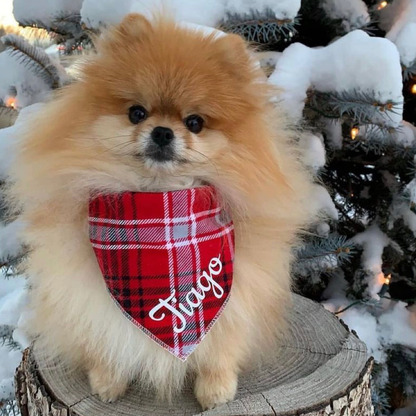Pomeranian: (48, 19, 309, 398)
